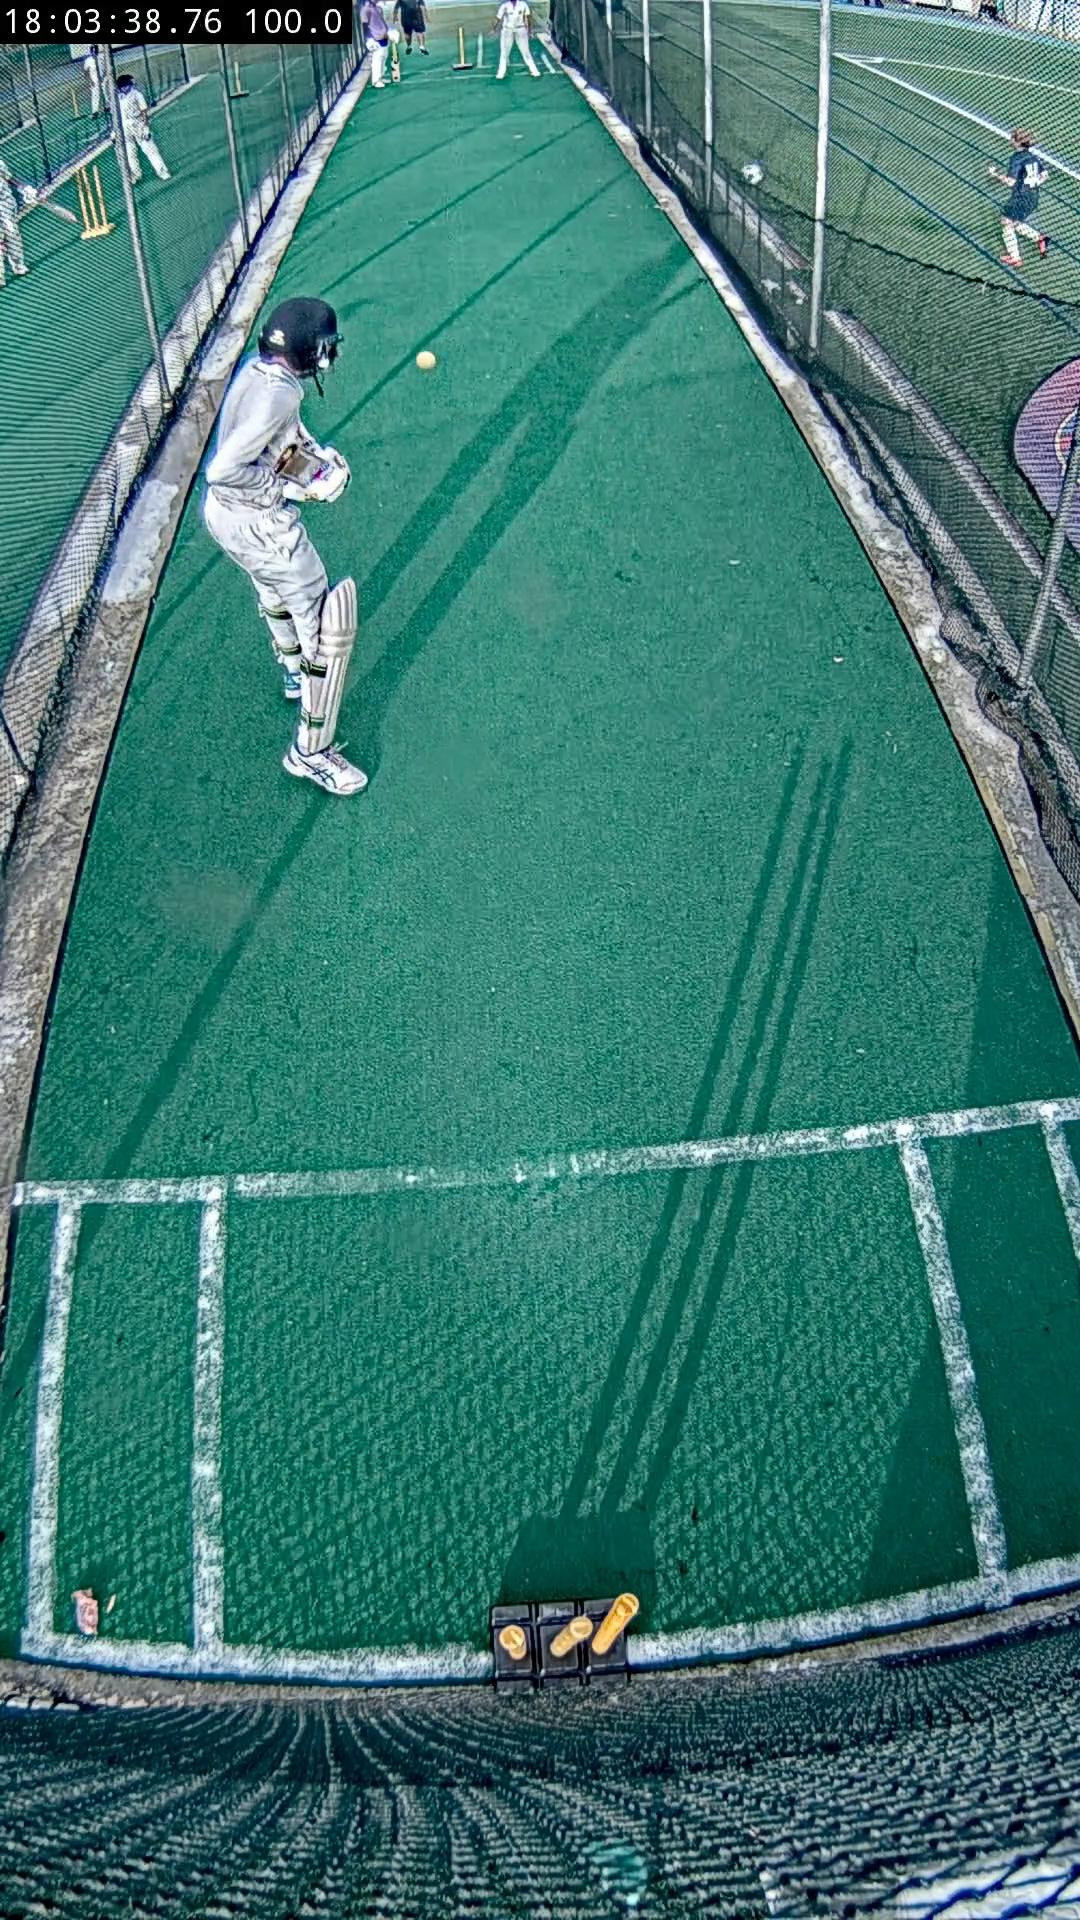ball: (417, 348, 439, 372)
bat: (277, 443, 330, 488)
gloves: (281, 450, 348, 502)
helmet: (258, 297, 338, 377)
pads: (311, 578, 356, 748)
stumps: (492, 1594, 641, 1692)
